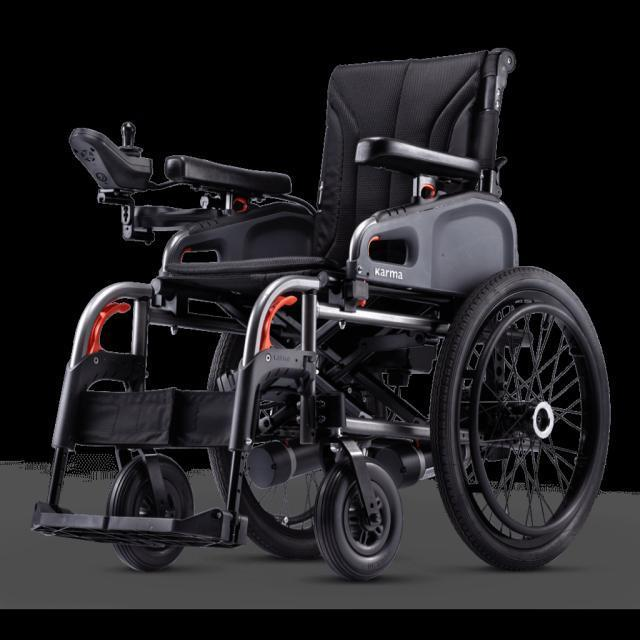wheelchairs: (38, 57, 614, 575)
